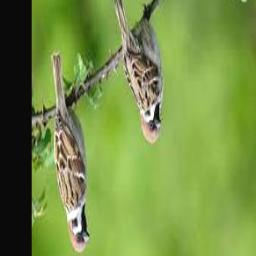Sparrow: (51, 52, 89, 253), (114, 0, 163, 145)
